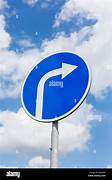right: (24, 53, 86, 122)
